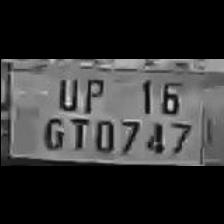0: (89, 114, 115, 152)
1: (132, 68, 154, 114)
4: (140, 118, 166, 152)
6: (155, 66, 181, 114)
7: (114, 114, 140, 154), (164, 117, 190, 153)
G: (40, 112, 66, 150)
P: (78, 68, 106, 110)
T: (66, 112, 88, 150)
U: (53, 66, 79, 108)
